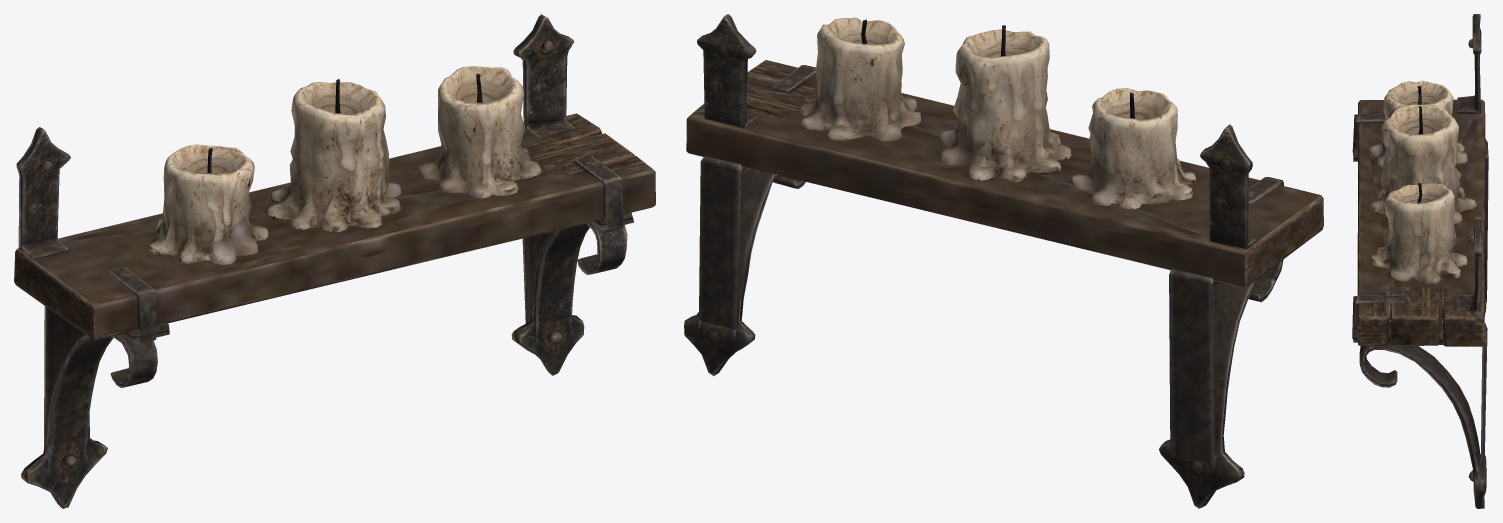
File: d_shelf_small_candles.glb
3 views of the same model, side by side, from view 1: azimuth 30°, elevation 25°; view 2: azimuth 150°, elevation 25°; view 3: azimuth 270°, elevation 25° (orthographic). The views are drawn at different scales.
Visible parts, largest first — view 1: d_shelf_small_candles; view 2: d_shelf_small_candles; view 3: d_shelf_small_candles.
Part boxes in pixels (<box>): d_shelf_small_candles: <box>14,14,655,508</box>; d_shelf_small_candles: <box>684,14,1323,508</box>; d_shelf_small_candles: <box>1352,14,1488,508</box>.
Size of the model in its own units: 1 by 0.6774 by 0.2641.
Materials: 1 (1 with a texture image).
